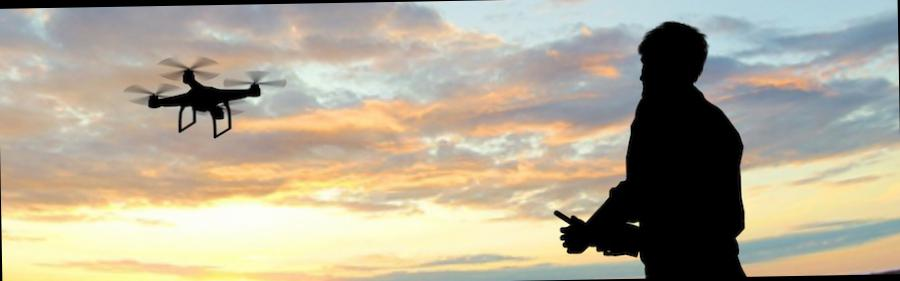drone: (126, 54, 284, 142)
